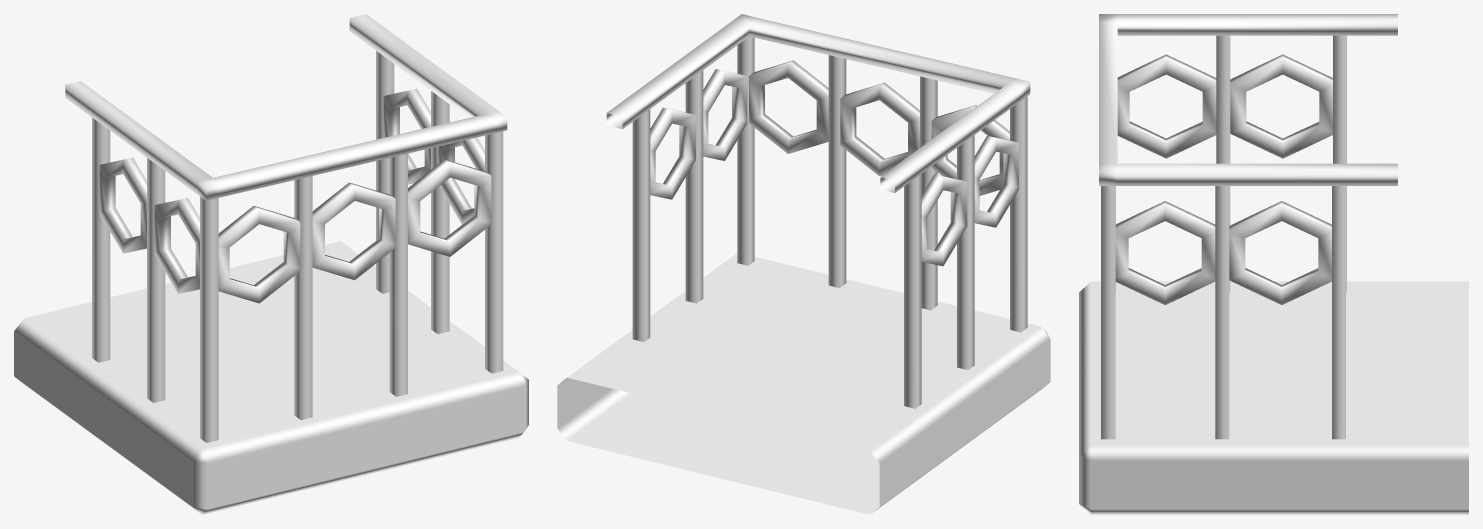
Rendered from BalcanySmall.fbx.
The picture shows the model from 3 angles, left to right: view 1: azimuth 30°, elevation 25°; view 2: azimuth 150°, elevation 25°; view 3: azimuth 270°, elevation 25°; orthographic projection. The views are drawn at different scales.
Visible parts, largest first — view 1: BalcanySmall; view 2: BalcanySmall; view 3: BalcanySmall.
Boxes of the visible parts, x1,y1,x2,y2 form: BalcanySmall: [14, 14, 528, 514]; BalcanySmall: [557, 14, 1050, 514]; BalcanySmall: [1079, 14, 1468, 514].
Bounding box in the file's own units: 169 × 155 × 161.
